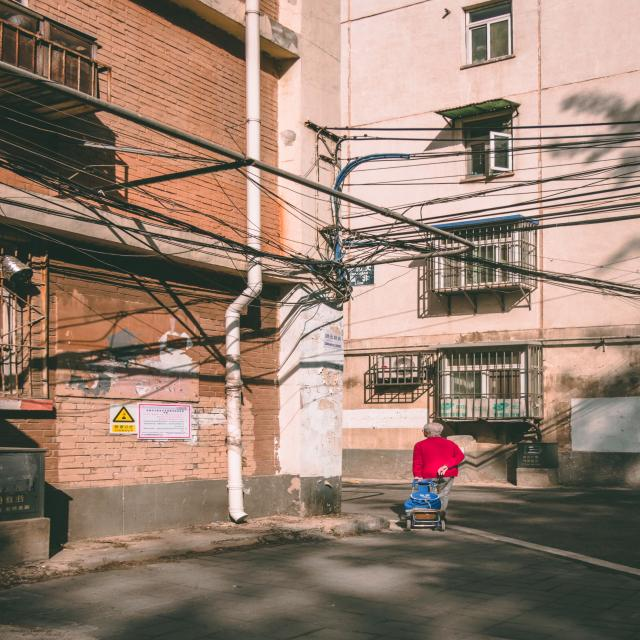adult: (412, 422, 465, 524)
